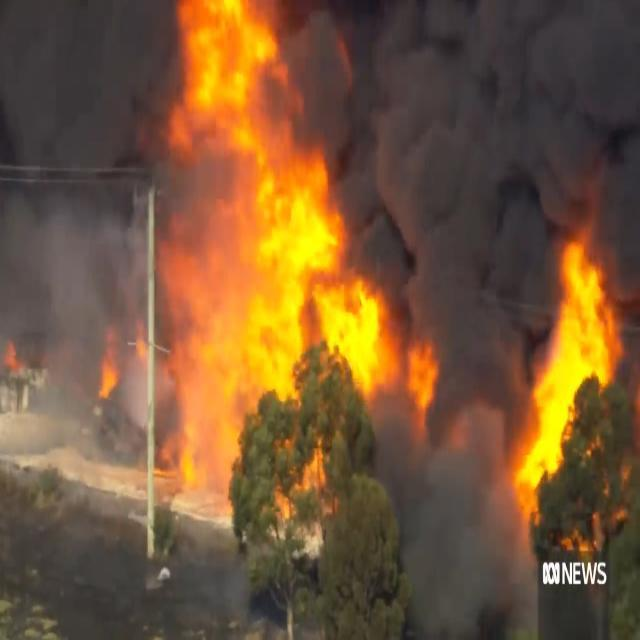fire: (166, 1, 414, 498), (506, 179, 618, 523)
